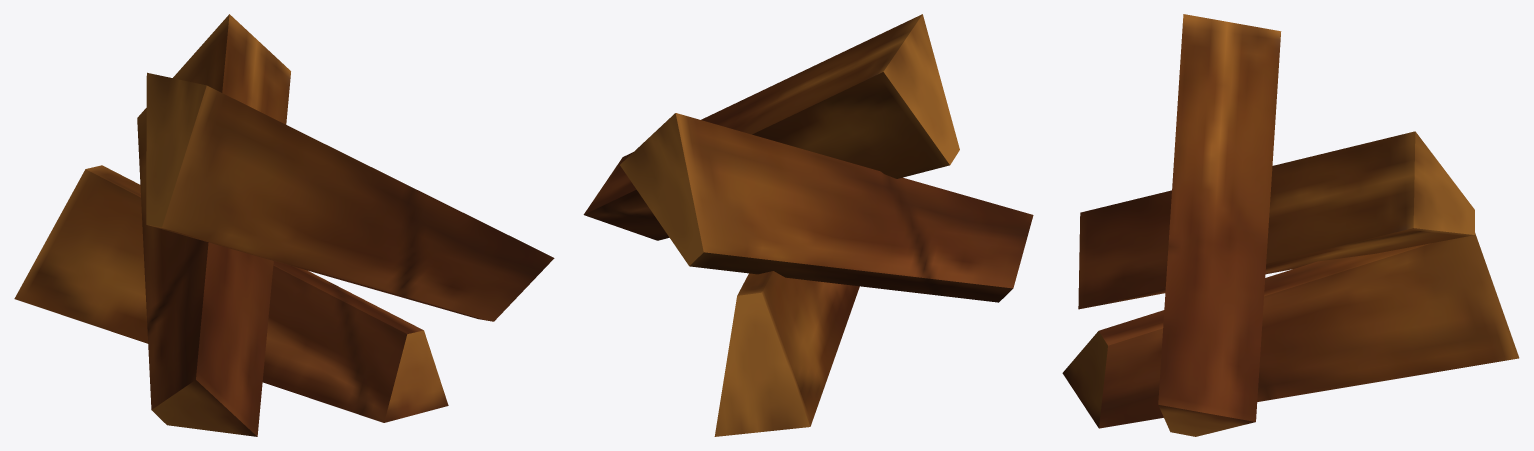
Rendered from woods_2.fbx.
The picture shows the model from 3 angles, left to right: view 1: azimuth 30°, elevation 25°; view 2: azimuth 150°, elevation 25°; view 3: azimuth 270°, elevation 25°; orthographic projection. The views are drawn at different scales.
Visible parts, largest first — view 1: woods_2; view 2: woods_2; view 3: woods_2.
Part boxes in pixels (x1,y1,x2,y2): woods_2: (14,14,554,436); woods_2: (583,14,1033,436); woods_2: (1062,14,1519,436).
Size of the model in its own units: 0.9693 by 0.7583 by 0.975.
